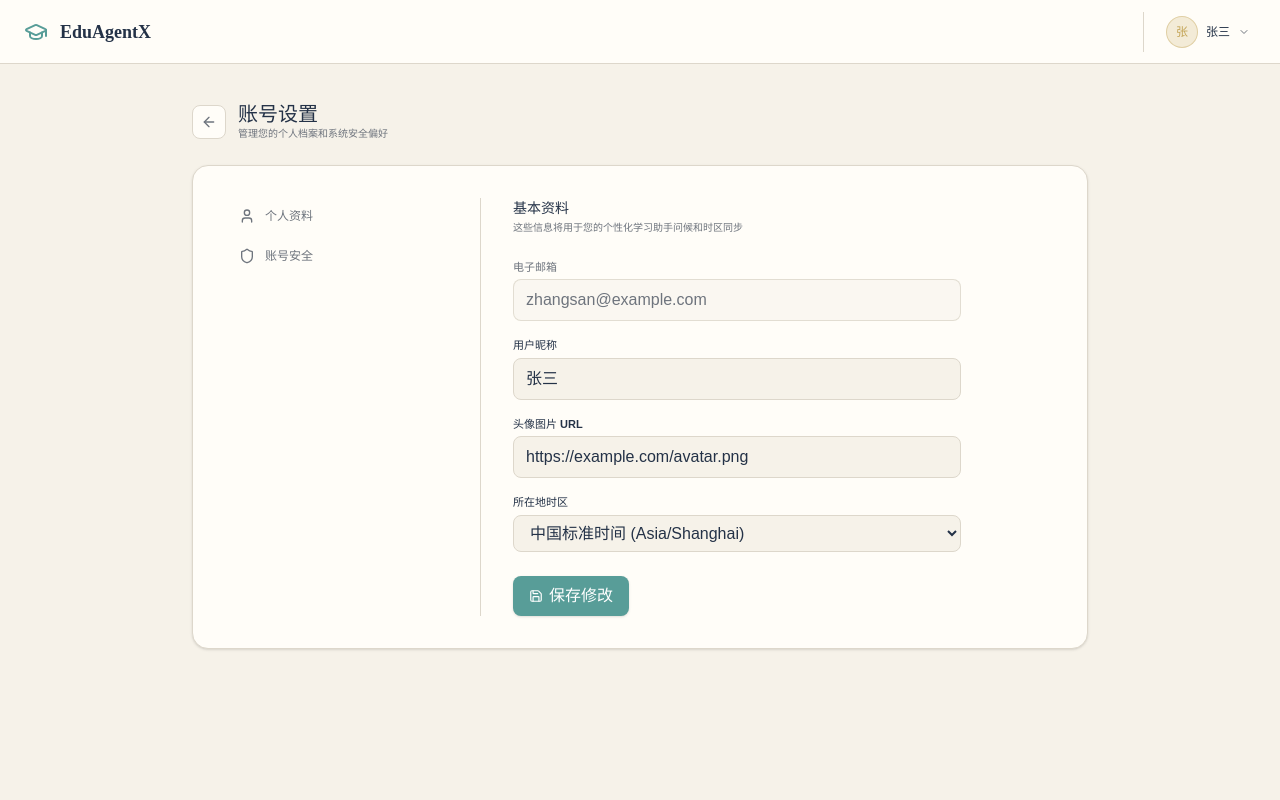
Test: Settings Pages › should show error toast when profile save API fails
Replace the text in the field with placeholder "设置昵称..." below "用户昵称" with "张三!!!": x=737, y=378 513,358 -> 961,400
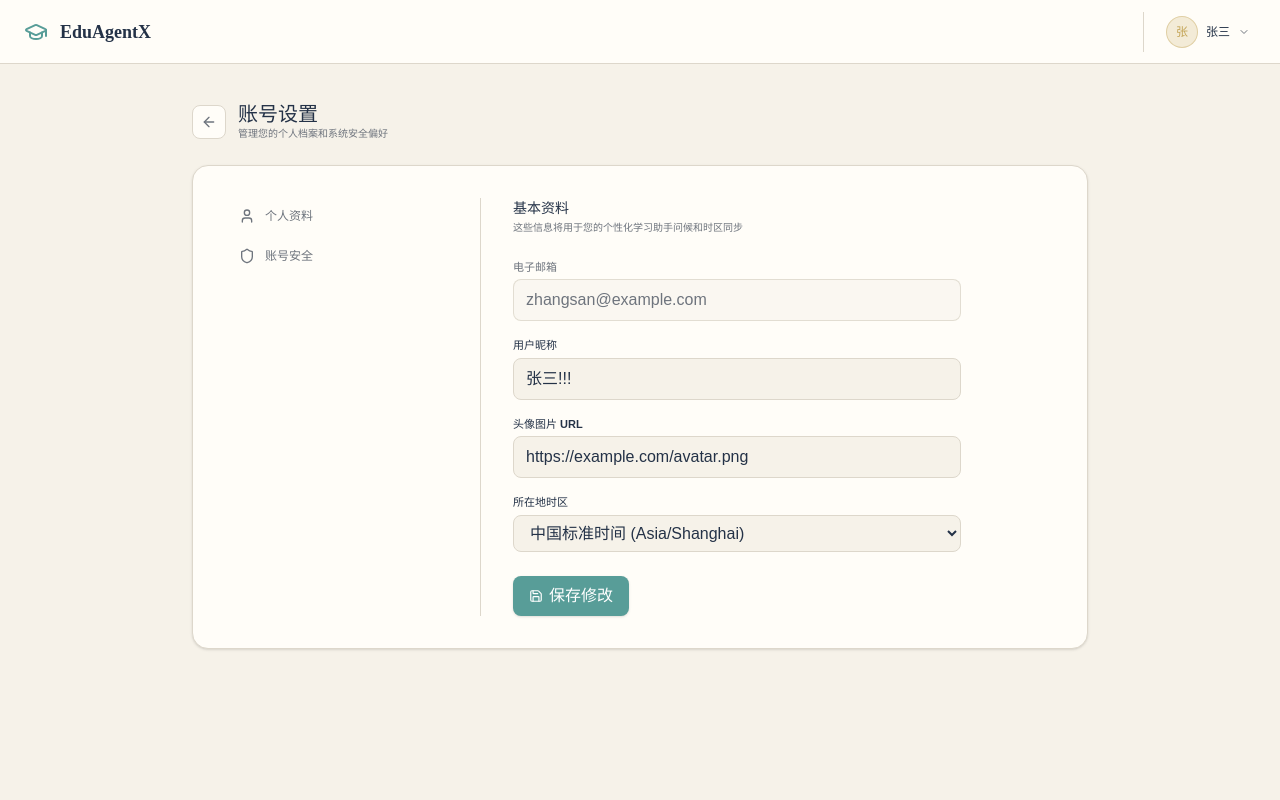
Click the button "保存修改": x=571, y=596 513,576 -> 629,616
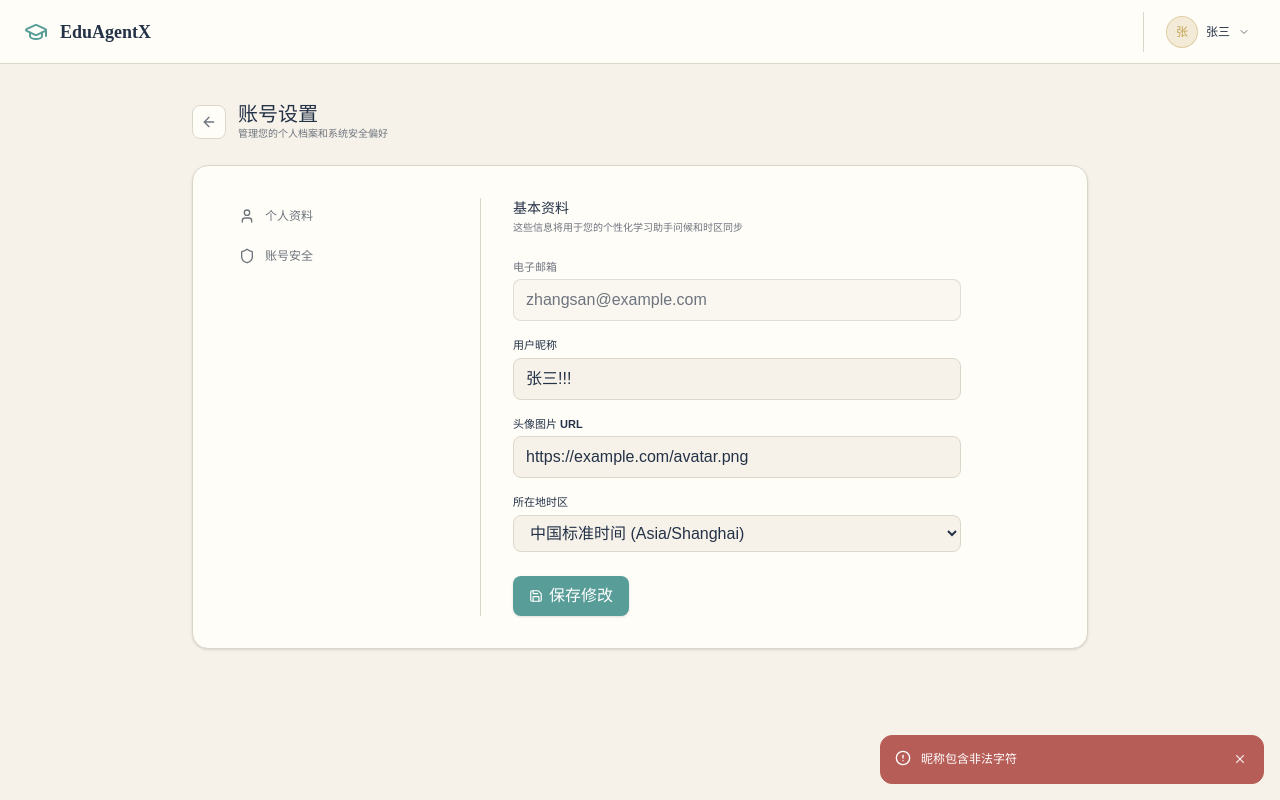
Expected: the text "昵称包含非法字符" is shown, 921,752 -> 1017,766
